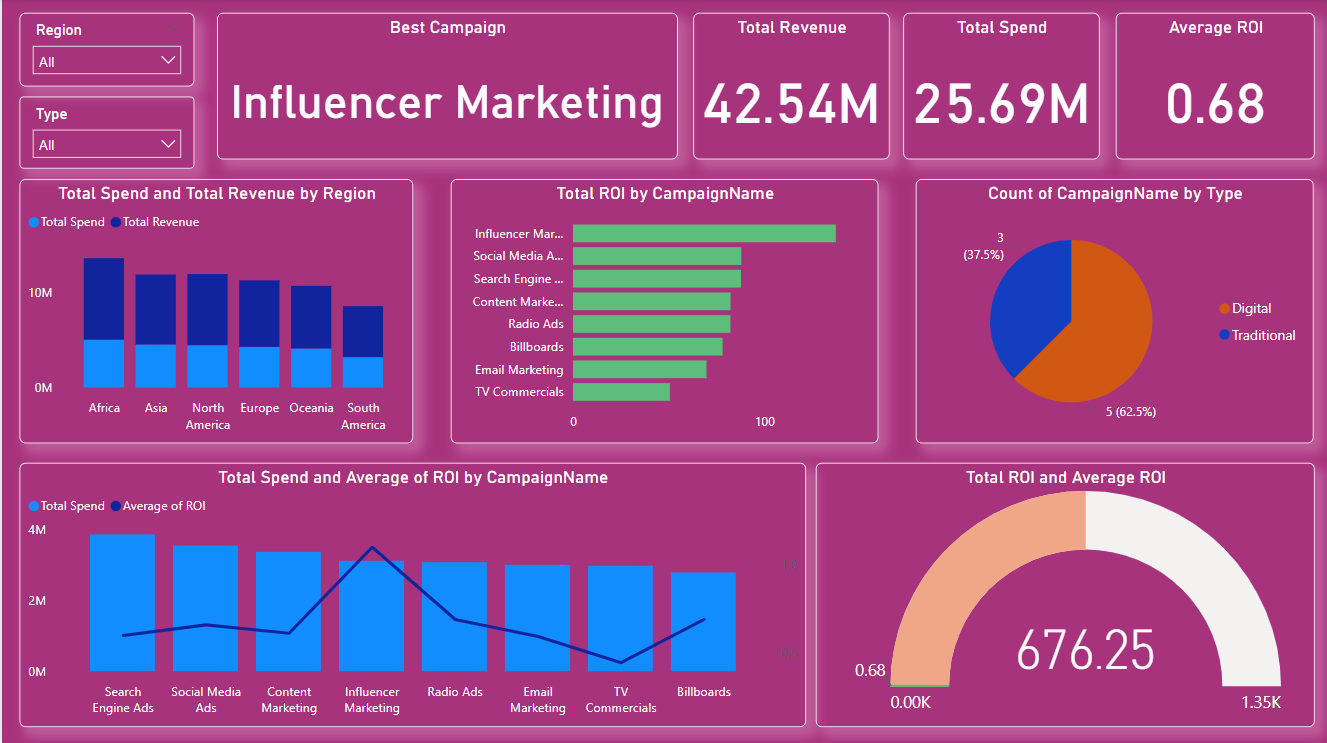

Layout of this report page (visuals, bound fields, positions):
{"tool":"powerbi","page":{"name":"Page 1","canvas":[1280,720],"ordinal":0},"visuals":[{"type":"columnChart","fields":{"Category":["marketing campaign performance.Region"],"Y":["marketing campaign performance.Total Spend","marketing campaign performance.Total Revenue"]},"box":[16.5,174.3,380.1,255.2],"z":0},{"type":"lineClusteredColumnComboChart","fields":{"Category":["marketing campaign performance.CampaignName"],"Y":["marketing campaign performance.Total Spend"],"Y2":["Avg(marketing campaign performance.ROI)"]},"box":[16.5,447.3,758.8,255.2],"z":1000},{"type":"clusteredBarChart","fields":{"Category":["marketing campaign performance.CampaignName"],"Y":["marketing campaign performance.Total ROI"]},"box":[433.6,174.3,413,255.2],"z":2000},{"type":"pieChart","fields":{"Category":["marketing campaign details.Type"],"Y":["CountNonNull(marketing campaign details.CampaignName)"]},"box":[882.3,174.3,384.2,255.2],"z":3000},{"type":"gauge","fields":{"Y":["marketing campaign performance.Total ROI"],"TargetValue":["marketing campaign performance.Average ROI"]},"box":[784.9,447.3,481.6,255.2],"z":4000},{"type":"card","title":"Average ROI","fields":{"Values":["marketing campaign performance.Average ROI"]},"box":[1074.4,13.7,192.1,141.3],"z":5000},{"type":"card","title":"Total Spend","fields":{"Values":["marketing campaign performance.Total Spend"]},"box":[870,13.7,189.4,141.3],"z":6000},{"type":"card","title":"Total Revenue","fields":{"Values":["marketing campaign performance.Total Revenue"]},"box":[666.9,13.7,189.4,141.3],"z":7000},{"type":"card","title":"Best Campaign","fields":{"Values":["marketing campaign performance.Best Campaign"]},"box":[207.2,13.7,444.6,141.3],"z":8000},{"type":"slicer","fields":{"Values":["marketing campaign performance.Region"]},"box":[16.5,13.7,168.8,71.4],"z":9000},{"type":"slicer","fields":{"Values":["marketing campaign details.Type"]},"box":[16.5,94.7,168.8,70],"z":10000}]}

Visuals, with their boxes in screenshot pixels (x1, y1, x2, y2), scaled from the page's 1280x720 canvas onto the 1327x743 screenshot:
columnChart - marketing campaign performance.Region x marketing campaign performance.Total Spend: (x1=17, y1=180, x2=411, y2=443)
lineClusteredColumnComboChart - marketing campaign performance.CampaignName x marketing campaign performance.Total Spend: (x1=17, y1=462, x2=804, y2=725)
clusteredBarChart - marketing campaign performance.CampaignName x marketing campaign performance.Total ROI: (x1=450, y1=180, x2=878, y2=443)
pieChart - marketing campaign details.Type x CountNonNull(marketing campaign details.CampaignName): (x1=915, y1=180, x2=1313, y2=443)
gauge - marketing campaign performance.Total ROI x marketing campaign performance.Average ROI: (x1=814, y1=462, x2=1313, y2=725)
"Average ROI" card: (x1=1114, y1=14, x2=1313, y2=160)
"Total Spend" card: (x1=902, y1=14, x2=1098, y2=160)
"Total Revenue" card: (x1=691, y1=14, x2=888, y2=160)
"Best Campaign" card: (x1=215, y1=14, x2=676, y2=160)
slicer - marketing campaign performance.Region: (x1=17, y1=14, x2=192, y2=88)
slicer - marketing campaign details.Type: (x1=17, y1=98, x2=192, y2=170)
